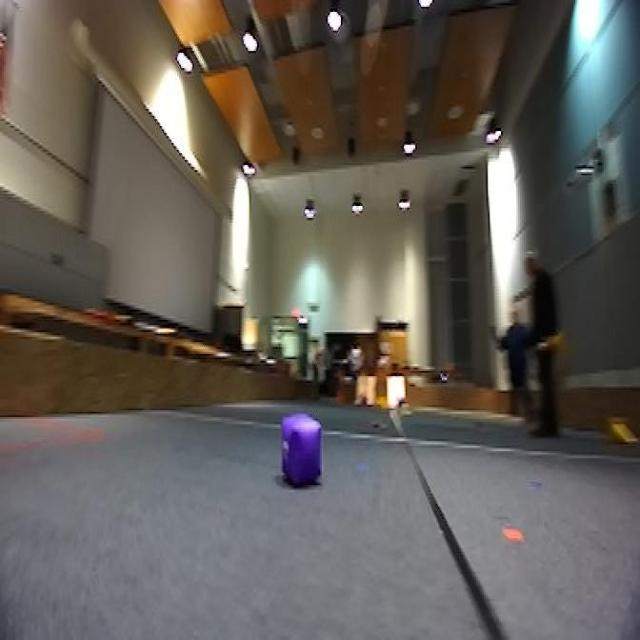frc_cone: (602, 412, 637, 448), (537, 328, 567, 358), (374, 393, 390, 410)
frc_cube: (280, 416, 325, 490), (397, 395, 410, 415), (359, 395, 369, 412)
